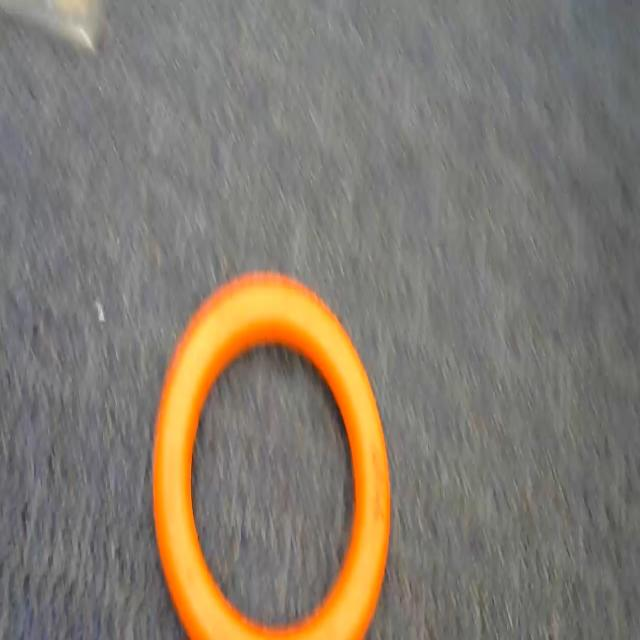note: (136, 278, 420, 640)
